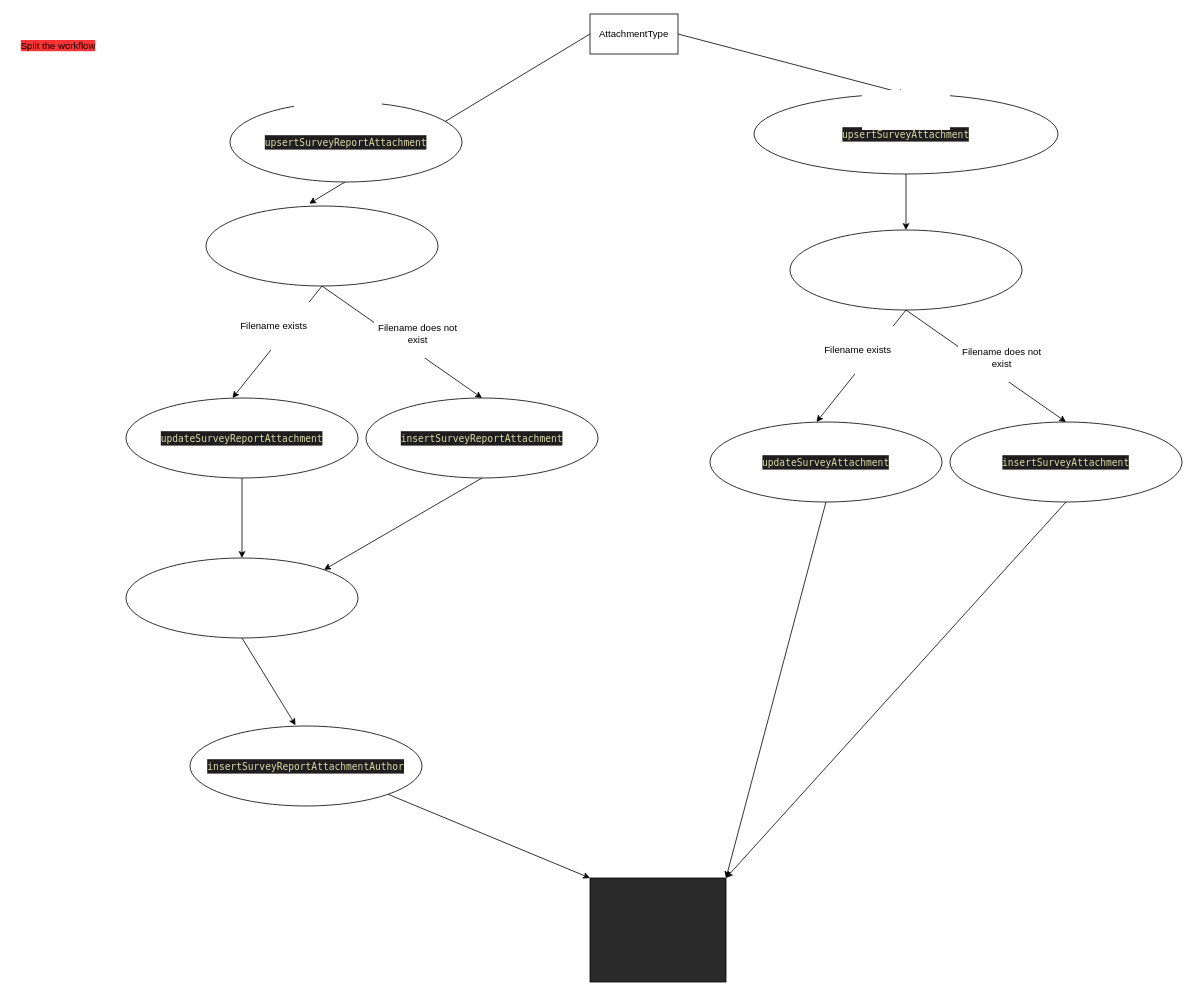
Some shapes in this 1196 by 996 pixel diagram are drawn without their labels. Here are the shapes that lost their labels. From the top down, the centre of each, then its label:
At pixel 338 114: "Report".
At pixel 906 110: "Other".
At pixel 321 245: "getSurveyReportAttachmentByFileName".
At pixel 905 269: "getSurveyAttachmentByFileName".
At pixel 241 597: "deleteSurveyReportAttachmentAuthors".
At pixel 657 929: "Return: id, revisionCount, key".
